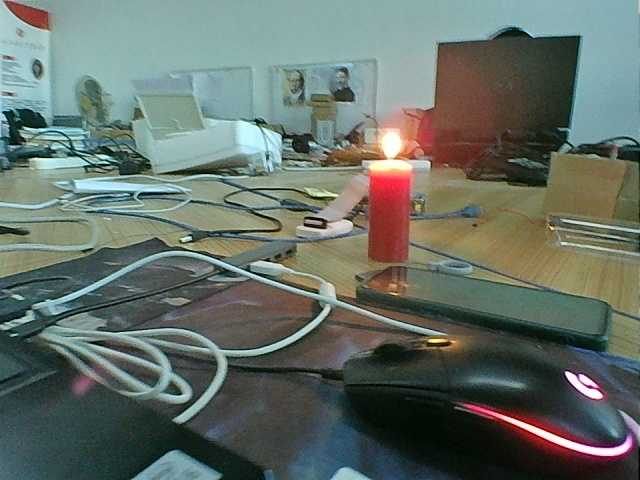candle: (358, 166, 428, 268)
fire: (373, 125, 411, 163)
